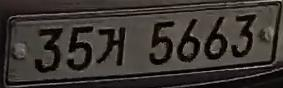3: (31, 24, 65, 75), (229, 12, 257, 59)
5: (65, 25, 94, 73), (147, 19, 174, 67)
6: (175, 16, 201, 64), (202, 15, 228, 63)
거: (96, 27, 127, 69)
